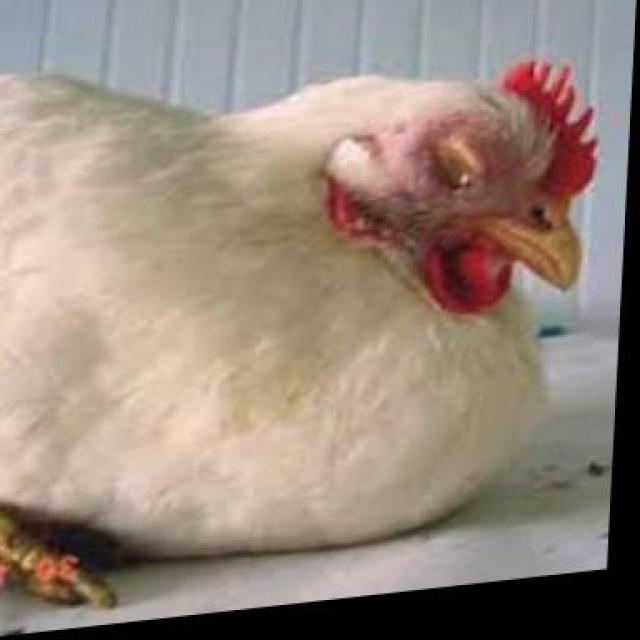Coryza: (394, 114, 516, 211)
